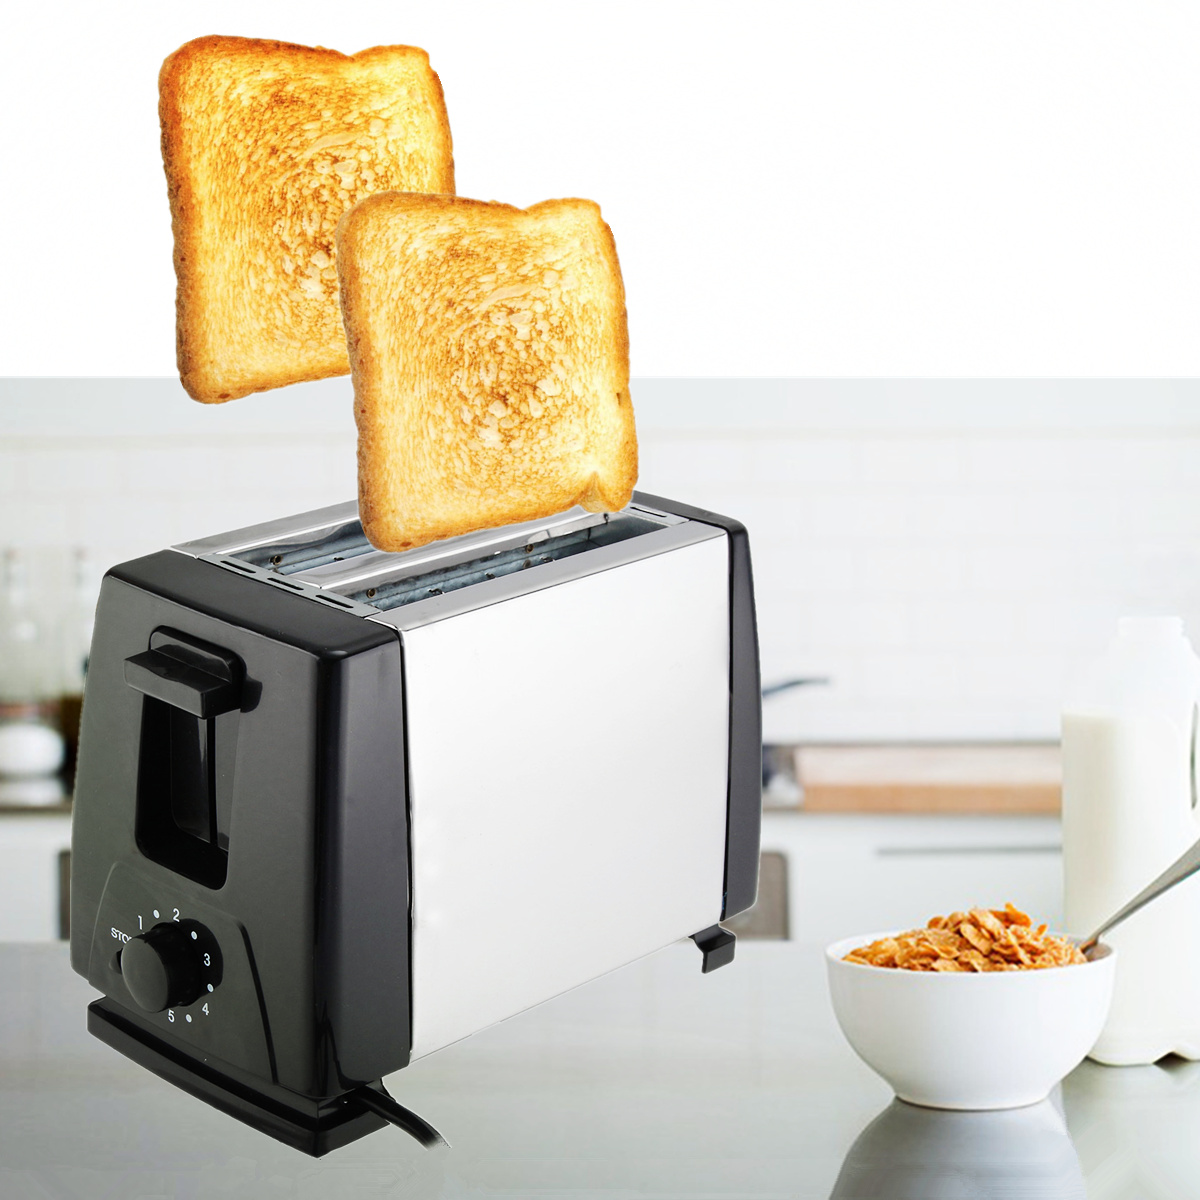glass of milk: (1073, 615, 1199, 1069)
slice of bread: (329, 187, 654, 538), (169, 33, 481, 397)
